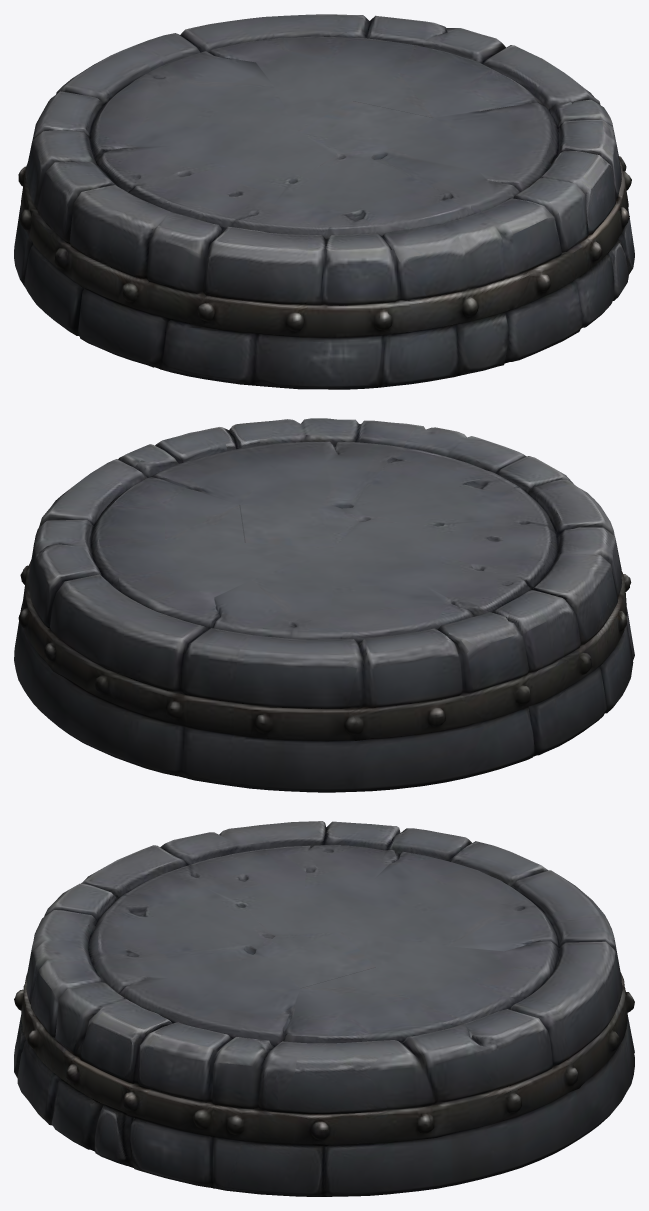
Rendered from prop_pad.glb.
The picture shows the model from 3 angles, top to bottom: view 1: azimuth 30°, elevation 25°; view 2: azimuth 150°, elevation 25°; view 3: azimuth 270°, elevation 25°; orthographic projection.
Visible parts, largest first — view 1: tripo_node_520ff10e-0127-44e4-9d53-8d05334ca76d; view 2: tripo_node_520ff10e-0127-44e4-9d53-8d05334ca76d; view 3: tripo_node_520ff10e-0127-44e4-9d53-8d05334ca76d.
Boxes of the visible parts, box(x1,y1,x2,y2) form: tripo_node_520ff10e-0127-44e4-9d53-8d05334ca76d: box(14, 14, 634, 389); tripo_node_520ff10e-0127-44e4-9d53-8d05334ca76d: box(14, 418, 634, 792); tripo_node_520ff10e-0127-44e4-9d53-8d05334ca76d: box(14, 821, 634, 1196).
Bounding box in the file's own units: 1 × 0.2309 × 1.
Materials: 1 (1 with a texture image).
